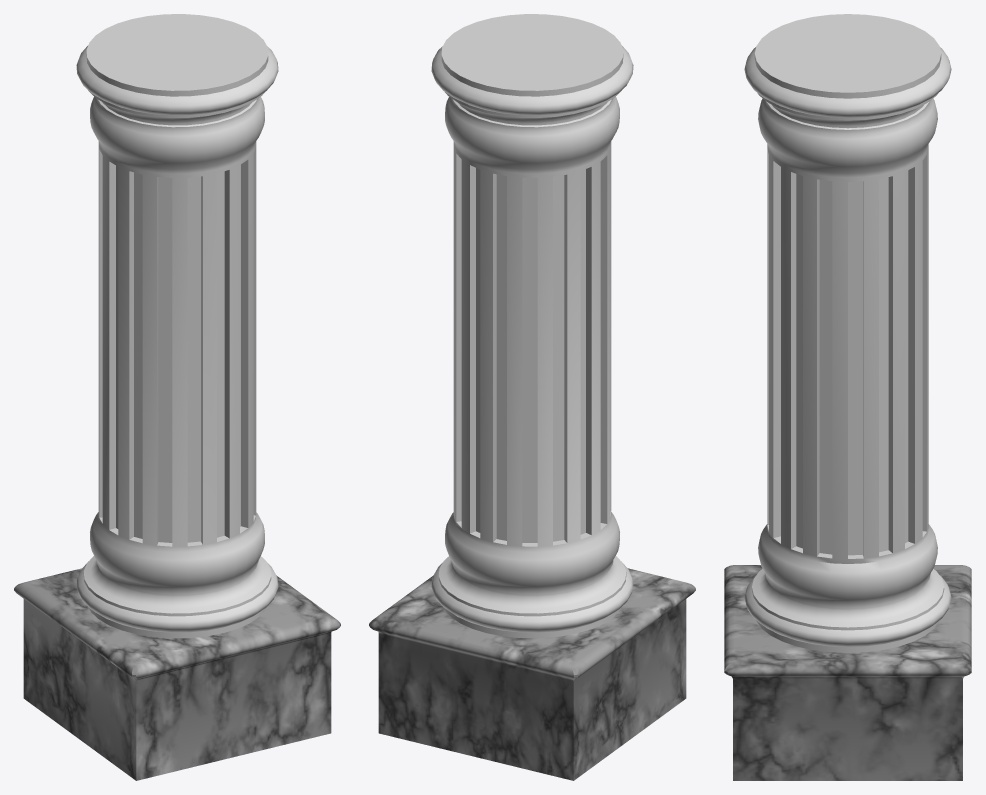
File: pillarfix.fbx
3 views of the same model, side by side, from view 1: azimuth 30°, elevation 25°; view 2: azimuth 150°, elevation 25°; view 3: azimuth 270°, elevation 25° (orthographic). The views are drawn at different scales.
Visible parts, largest first — view 1: Cube; view 2: Cube; view 3: Cube.
Boxes of the visible parts, box(x1,y1,x2,y2) form: Cube: box(14, 14, 340, 780); Cube: box(369, 14, 695, 780); Cube: box(724, 14, 971, 780).
Bounding box in the file's own units: 306 × 928 × 306.
Materials: 2 (1 with a texture image).
